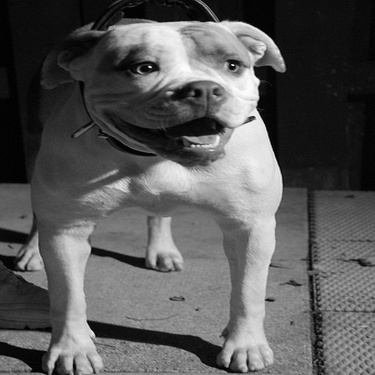dog: (16, 14, 287, 369)
